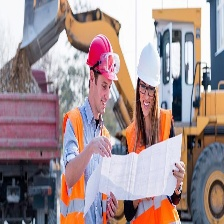helmet: (85, 34, 119, 87), (136, 42, 163, 92)
no-vest: (127, 110, 185, 222), (62, 106, 111, 224)
person: (126, 41, 182, 224), (60, 34, 113, 221)
